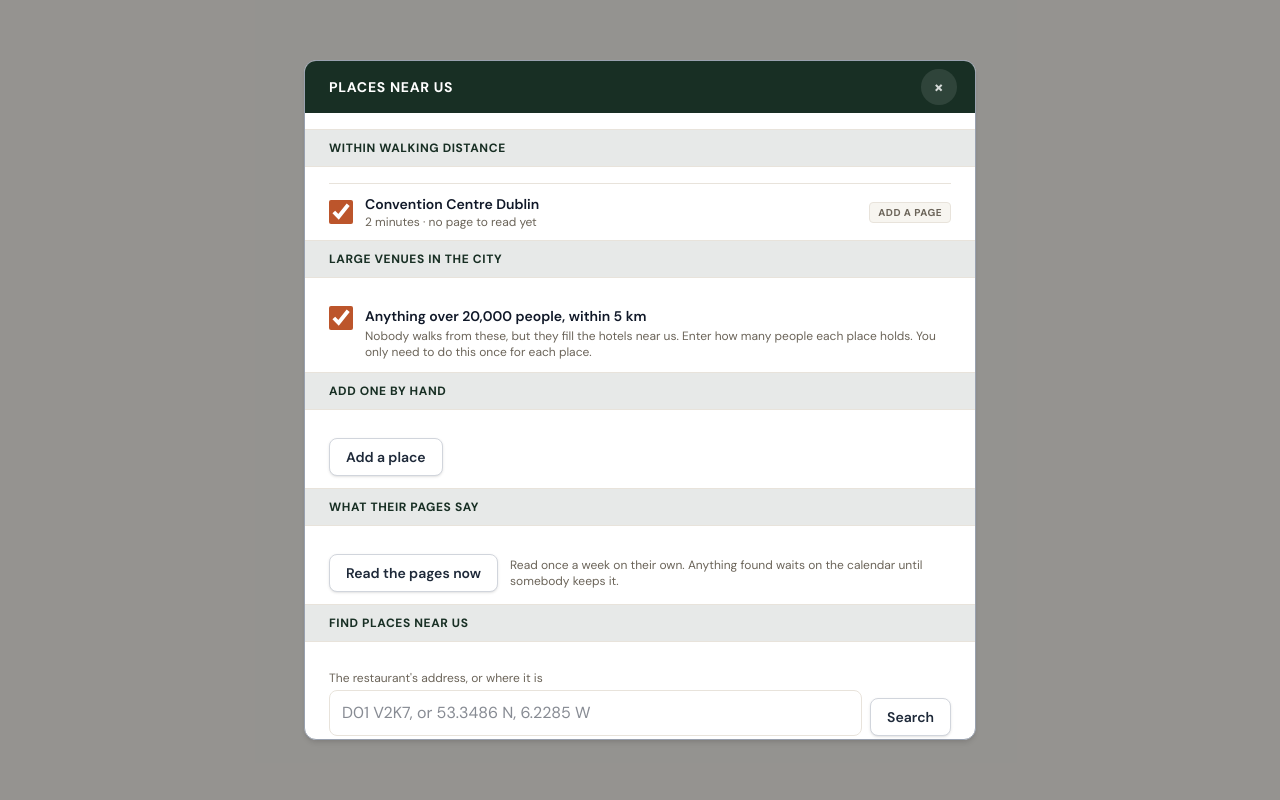
Scenario: watching a venue from the search › says when watching it fills in the place already there
Type "53.3478, -6.2285" into the field labelled "The restaurant's address, or where it is" at (596, 713), box [329,690,862,736]
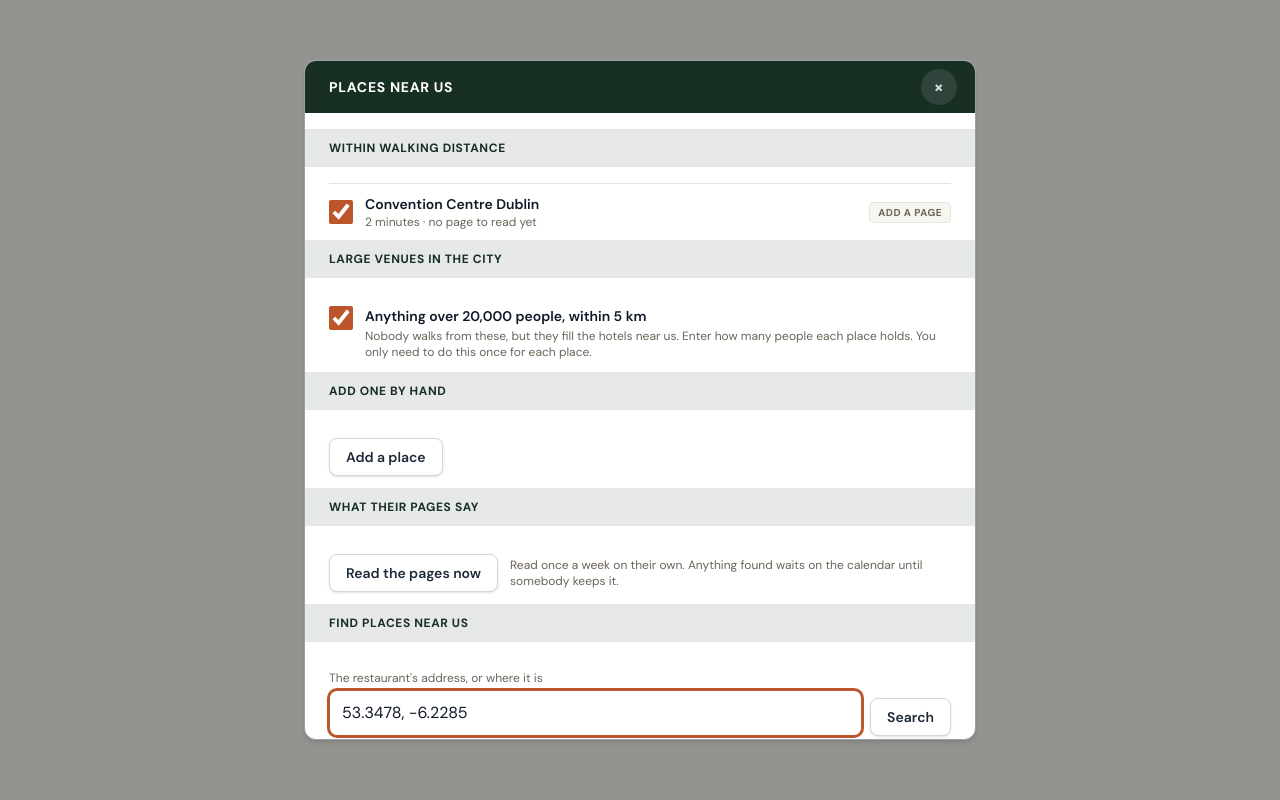
Click the button "Search" at (911, 717), box [870,698,951,736]
(page scrolled)
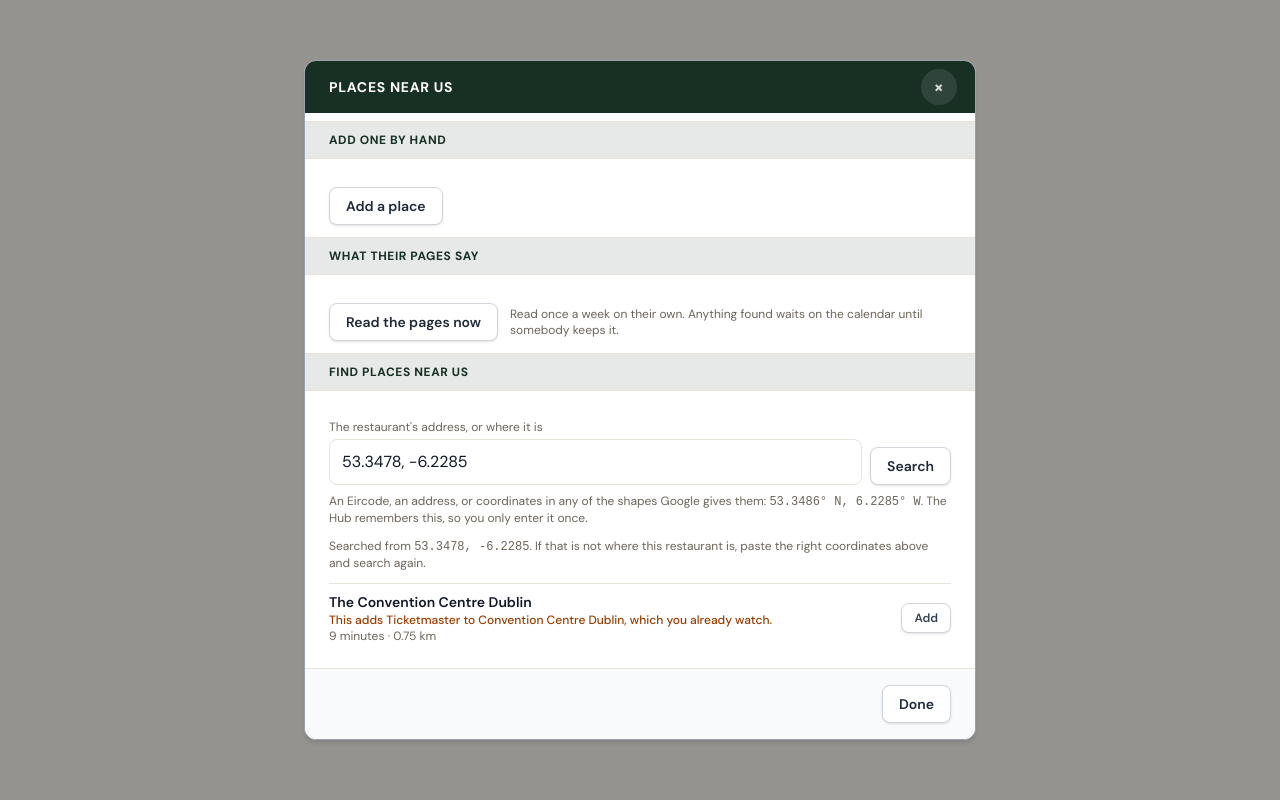
Expected: the text "This adds Ticketmaster to Convention Centre Dublin" is shown, [329,612,772,628]
